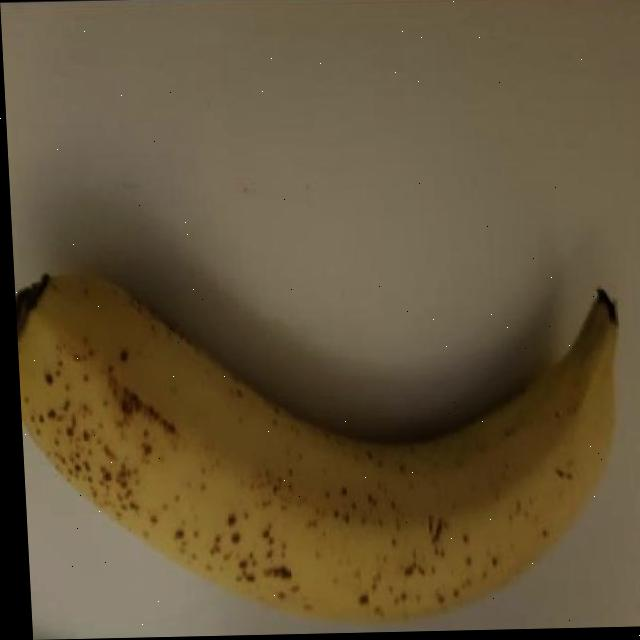banana: (17, 257, 635, 632)
